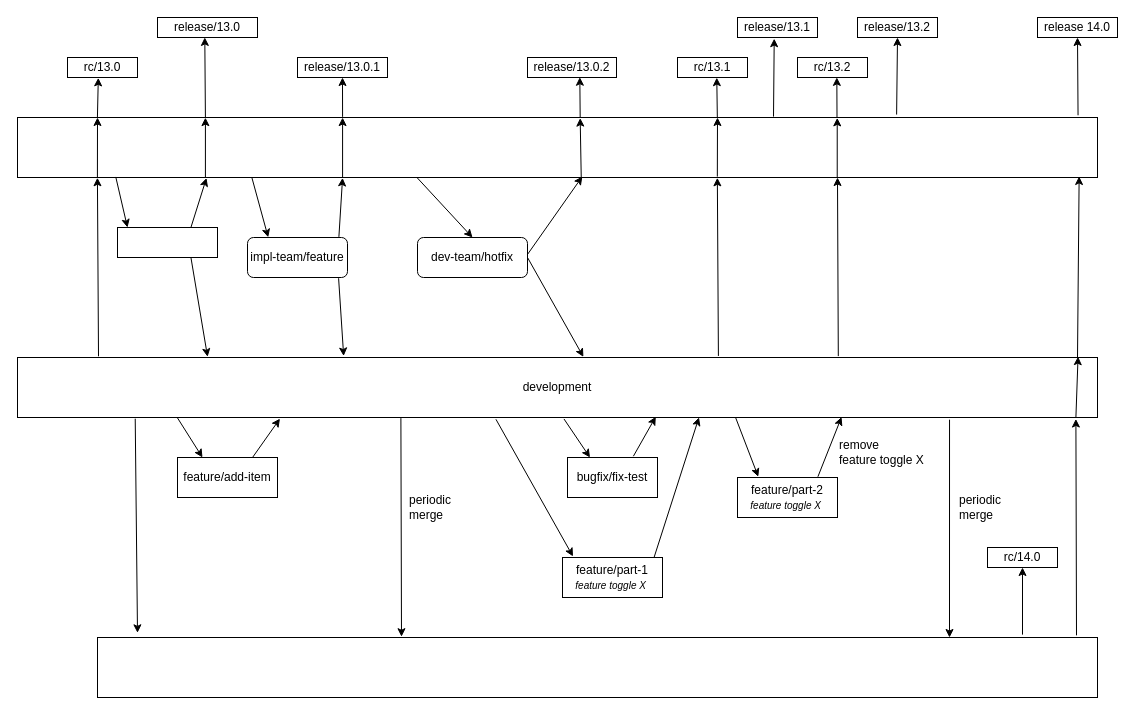
This 1135x715 diagram has some shape labels left out. The shapes that lost their labels are listed below. From the top down, each one's centre as x and y in pixels, then its label:
At pixel 557 147: "stable".
At pixel 167 242: "dev-team/rc-fixes".
At pixel 597 667: "development/next breaking changes".
